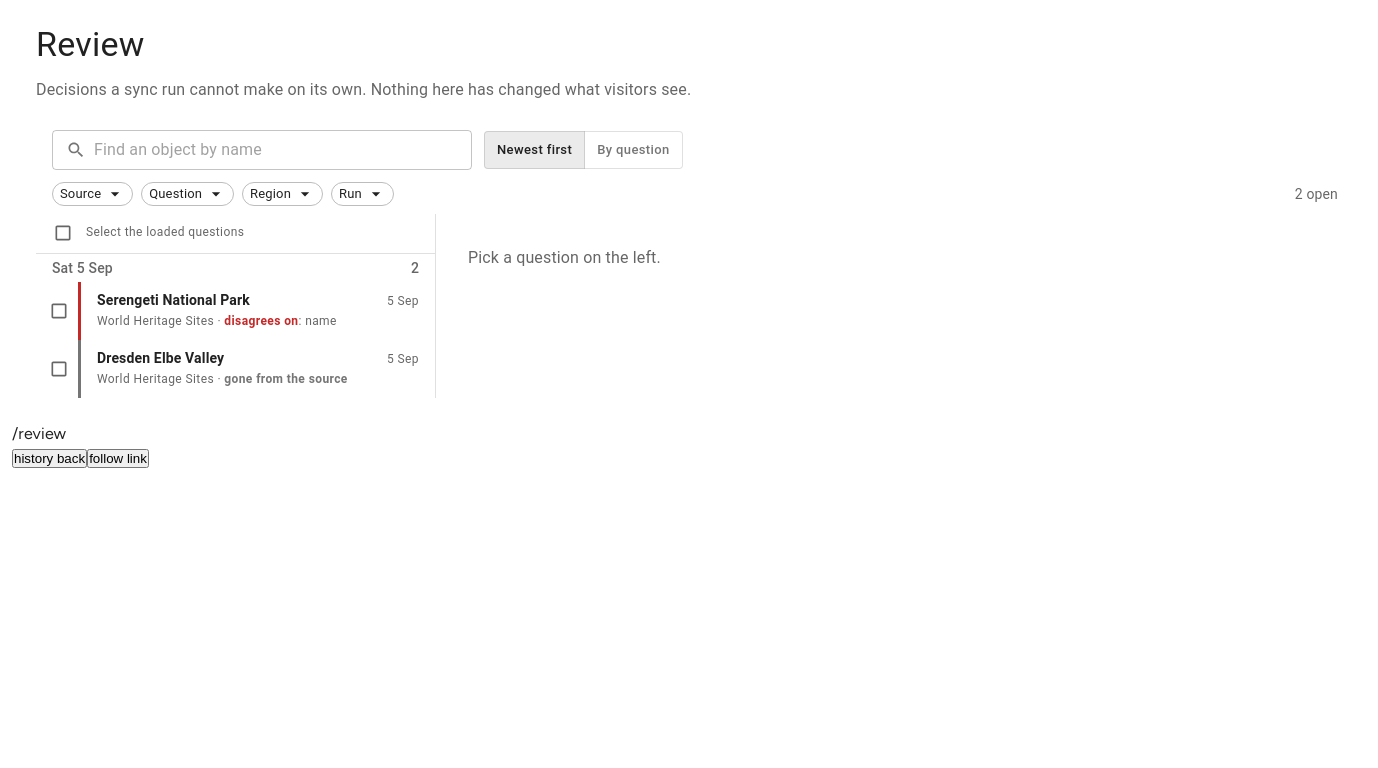
ReviewPage › pushes a filter the toolbar reports, and lets the page pick the row again
Click the button "Dresden Elbe Valley" at coordinates (256, 369), box [78, 340, 435, 398]
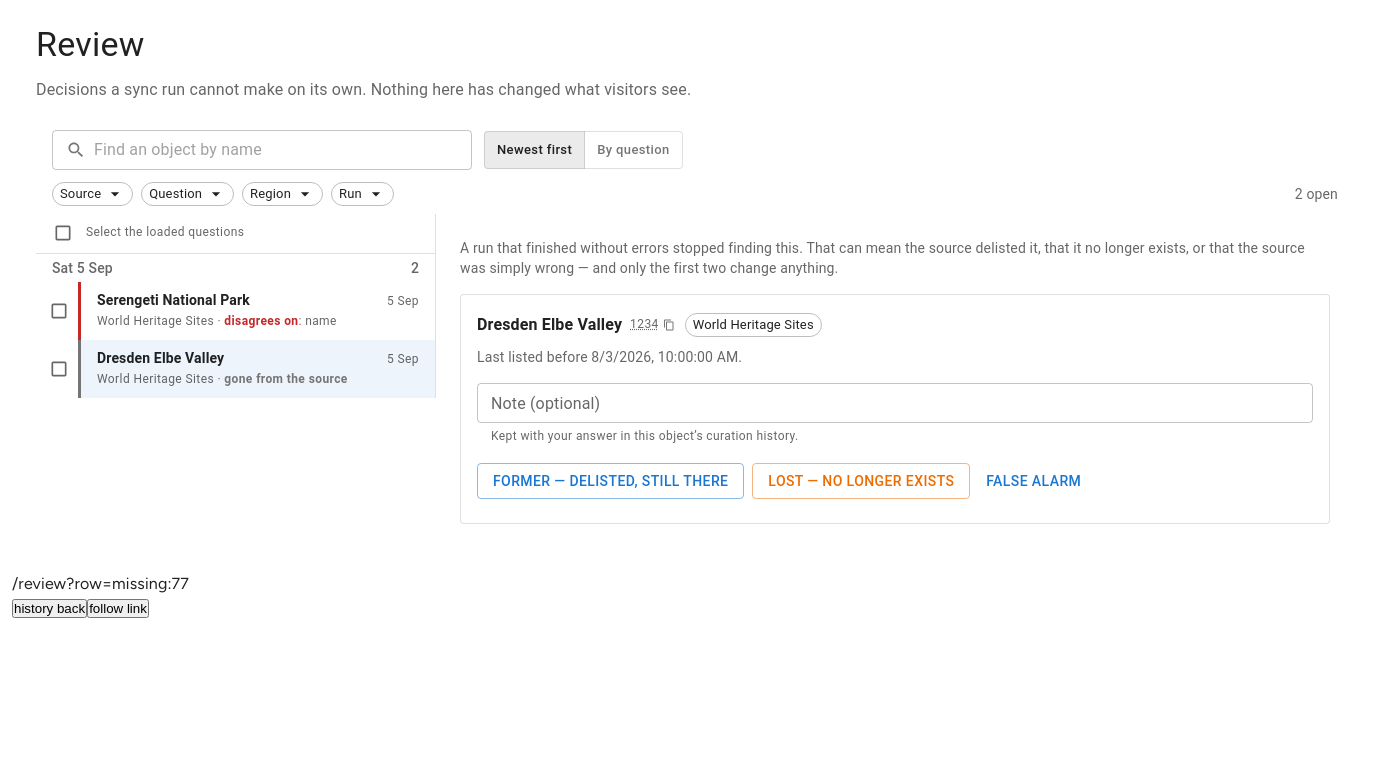
Expected: the text with test id "address" reads "/review?row=missing:77", [12, 574, 189, 593]
Click the button "Question" at coordinates (188, 194), box [141, 182, 234, 206]
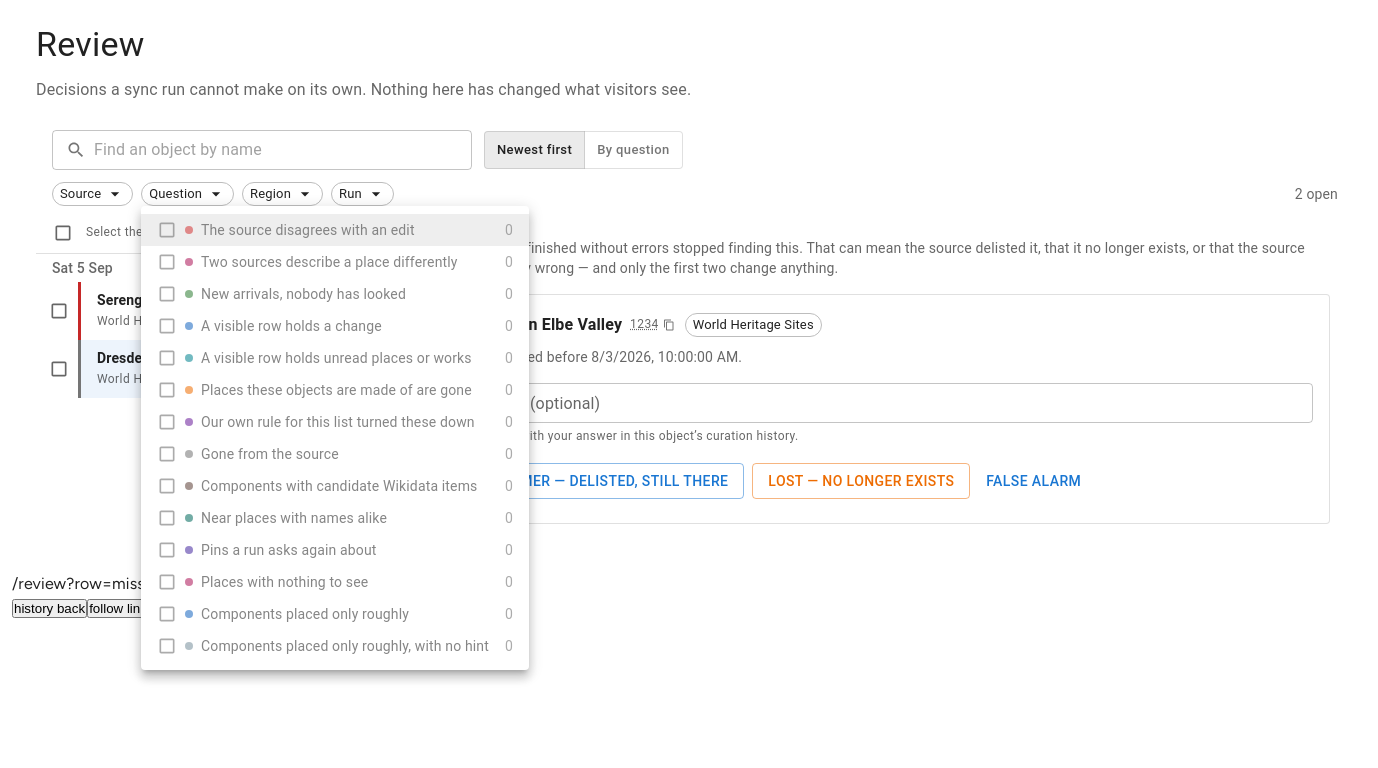
Click the menu item "The source disagrees with an edit 0" at coordinates (335, 230), box [141, 214, 529, 246]
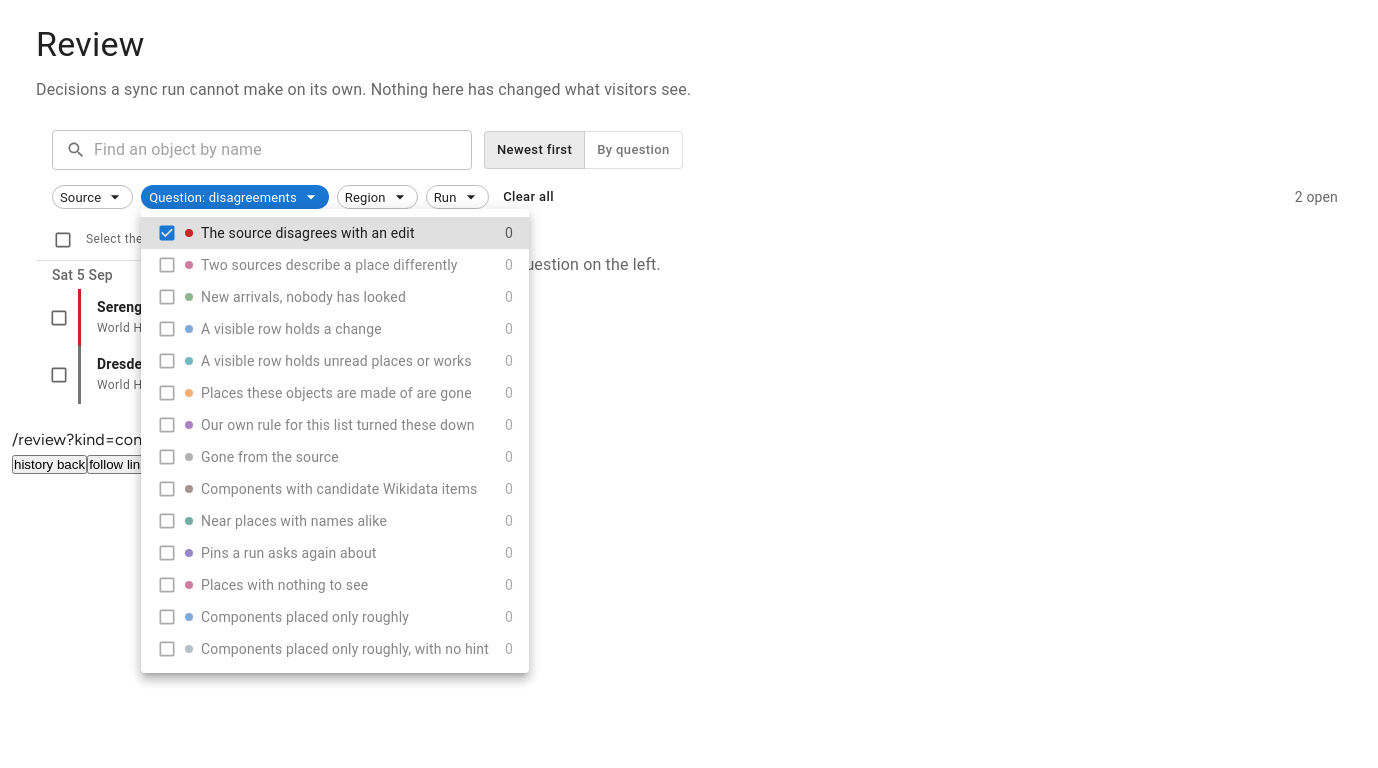
Press Escape in the menu, box [141, 209, 529, 673]
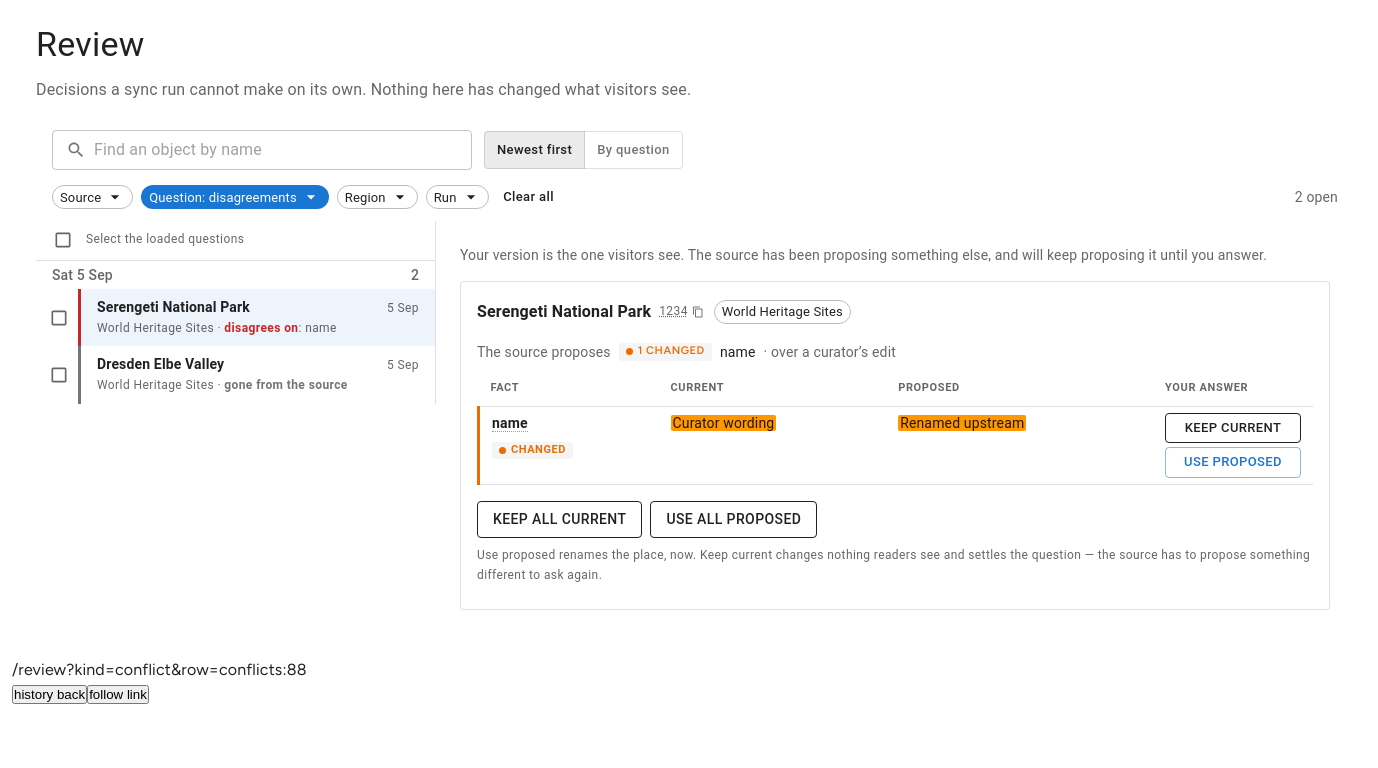
Expected: the menu is gone
Expected: the text with test id "address" reads "/review?kind=conflict&row=conflicts:88", [12, 660, 307, 680]
